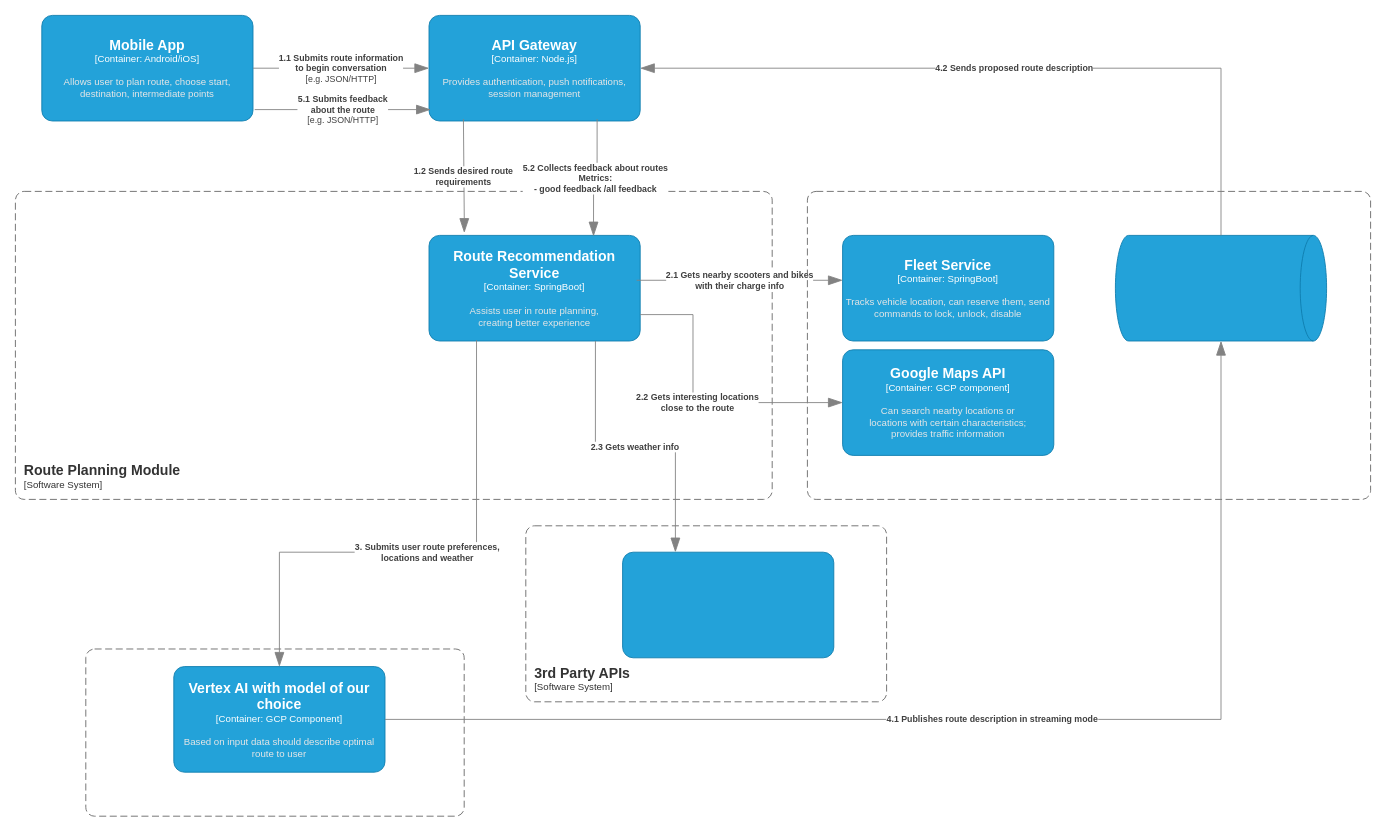
Image size: 1386x832. Some labels were removed from this diagram. The shapes that lost their labels are listed below. From the top down, each one's box as (x1, y1, x2, y2) in pixels, then its label:
(1115, 235, 1327, 341): Event Backbone [Container: Apache Kafka] Message broker
(807, 191, 1371, 499): Core Module [Software System]
(622, 551, 834, 658): Weather Service [Container: REST API] Provides weather info for a location
(85, 648, 464, 816): AI Module [Software System]
